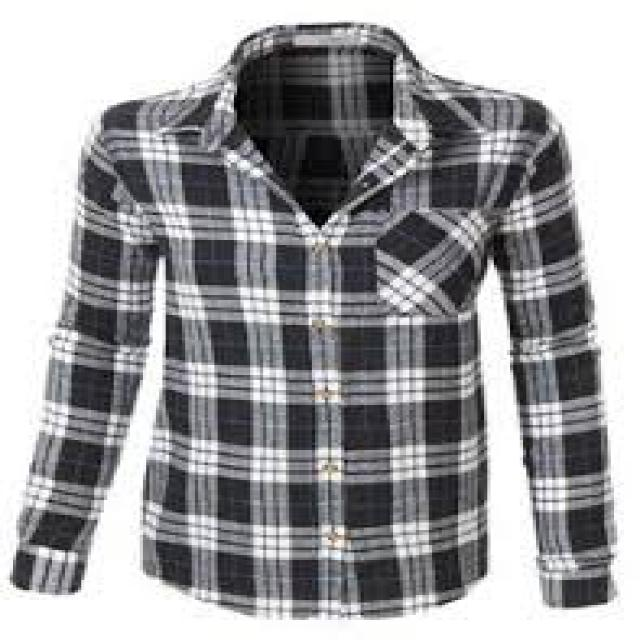plaid: (0, 41, 640, 611)
